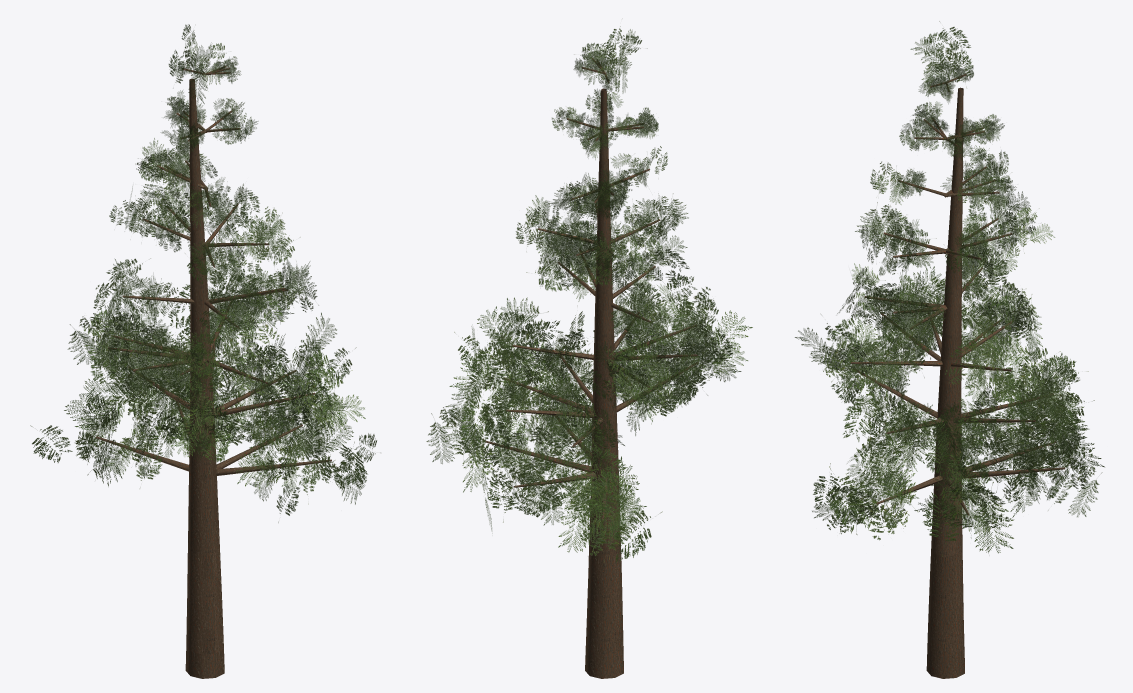
File: pine_2.glb
3 views of the same model, side by side, from view 1: azimuth 30°, elevation 25°; view 2: azimuth 150°, elevation 25°; view 3: azimuth 270°, elevation 25° (orthographic).
Parts seen in each view (by area): view 1: pine; view 2: pine; view 3: pine.
Boxes of the visible parts, bbox=[...] form: pine: bbox=[30, 24, 376, 678]; pine: bbox=[426, 26, 752, 678]; pine: bbox=[795, 21, 1104, 678].
Bounding box in the file's own units: 7.17 × 15.22 × 7.
Materials: 2 (2 with a texture image).
